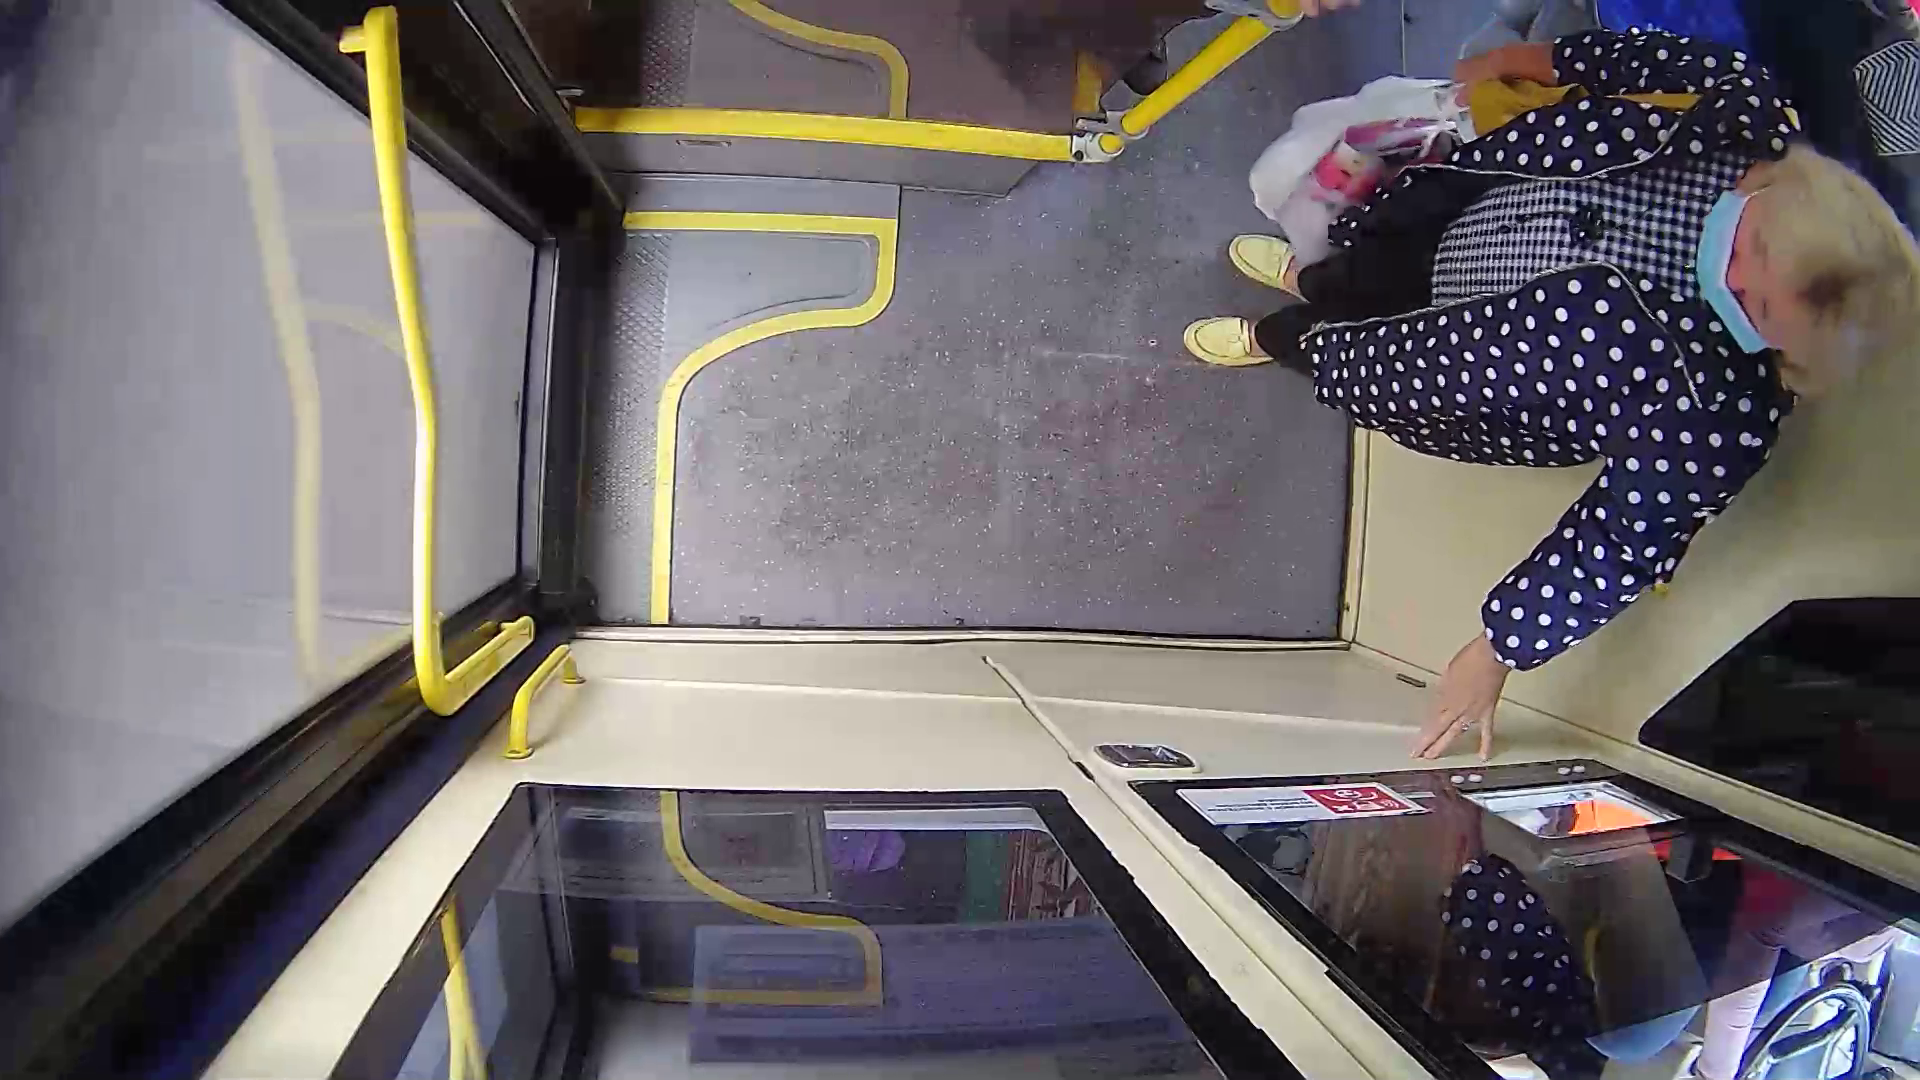person: (1136, 50, 1910, 653)
